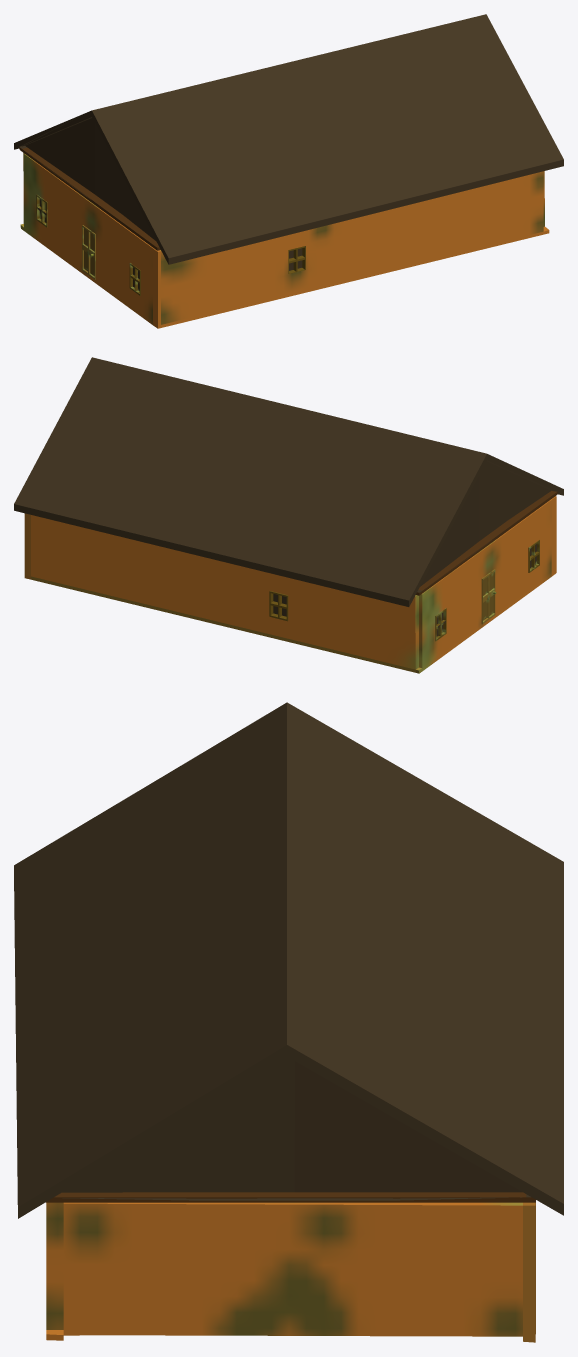
The model's file is Casa 3 puzzle 2 separadas.fbx.
3 renders of one model, top to bottom at view 1: azimuth 30°, elevation 25°; view 2: azimuth 150°, elevation 25°; view 3: azimuth 270°, elevation 25°, orthographic. The views are drawn at different scales.
Visible parts, largest first — view 1: Cube.020, Cube.011, Cube.021, Plane.019; view 2: Cube.020, Cube.011, Cube.021, Plane.019; view 3: Cube.020, Cube.011, Cube.006, Plane.019.
Boxes of the visible parts, <box> form: Cube.020: <box>14,14,563,264</box>; Cube.011: <box>20,153,549,328</box>; Cube.021: <box>19,117,155,242</box>; Plane.019: <box>19,147,160,250</box>; Cube.020: <box>14,357,563,606</box>; Cube.011: <box>24,496,556,673</box>; Cube.021: <box>417,461,556,592</box>; Plane.019: <box>416,491,557,595</box>; Cube.020: <box>14,702,563,1218</box>; Cube.011: <box>46,1202,535,1342</box>; Cube.006: <box>62,1057,530,1200</box>; Plane.019: <box>46,1192,535,1202</box>.
Size of the model in its own units: 20974 by 8427 by 13999.
1 material, 1 textured.
